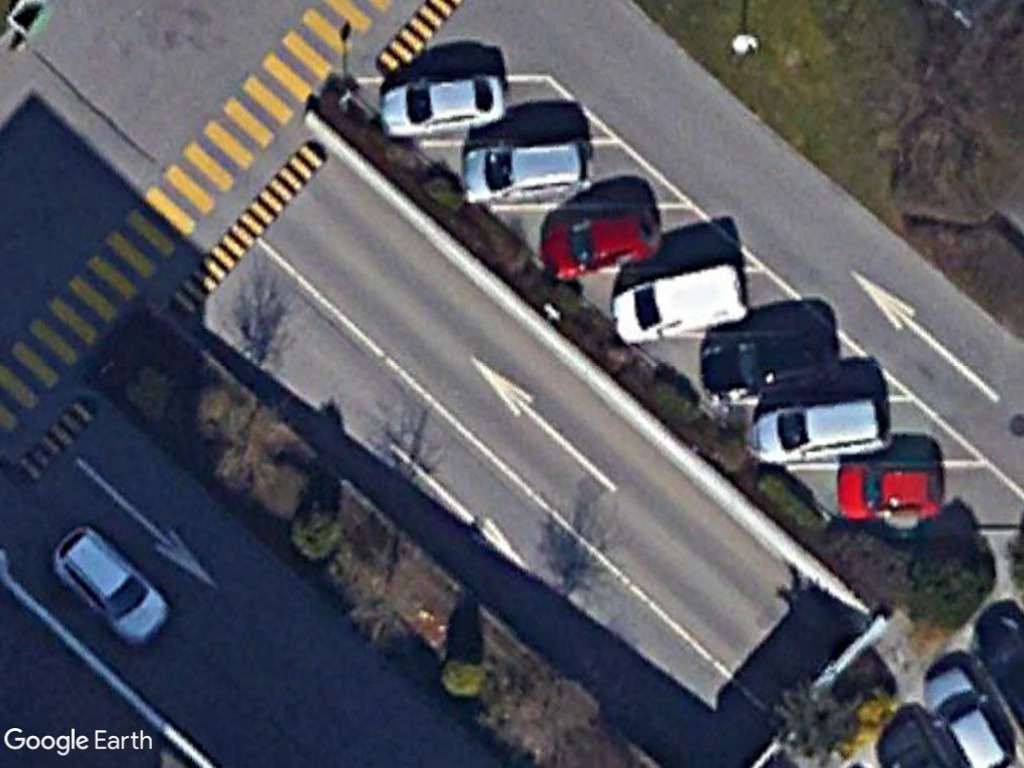car: (53, 526, 171, 647), (749, 389, 897, 468), (372, 72, 513, 143), (456, 140, 598, 210), (542, 206, 670, 280), (832, 459, 954, 524)
van: (604, 258, 751, 350)
